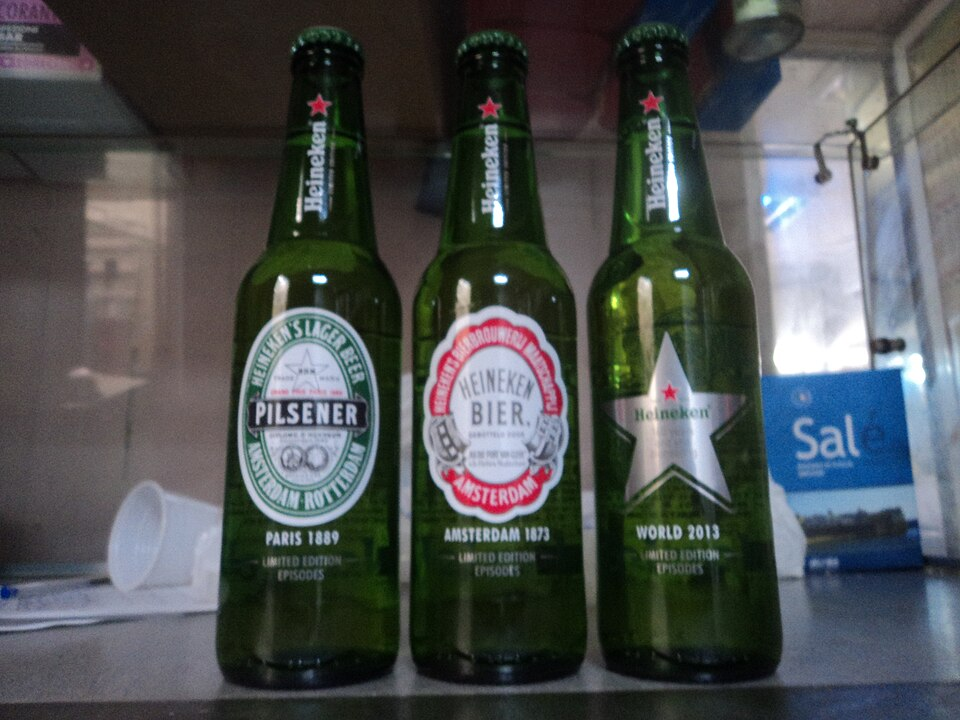beer-bottle: (577, 19, 788, 693), (206, 22, 415, 698), (402, 22, 591, 696)
